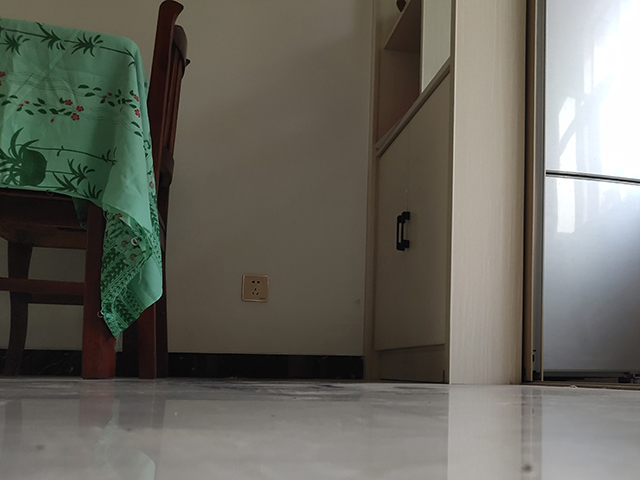cabinet: (363, 58, 525, 386)
stool: (1, 1, 192, 381)
table: (1, 17, 165, 381)
